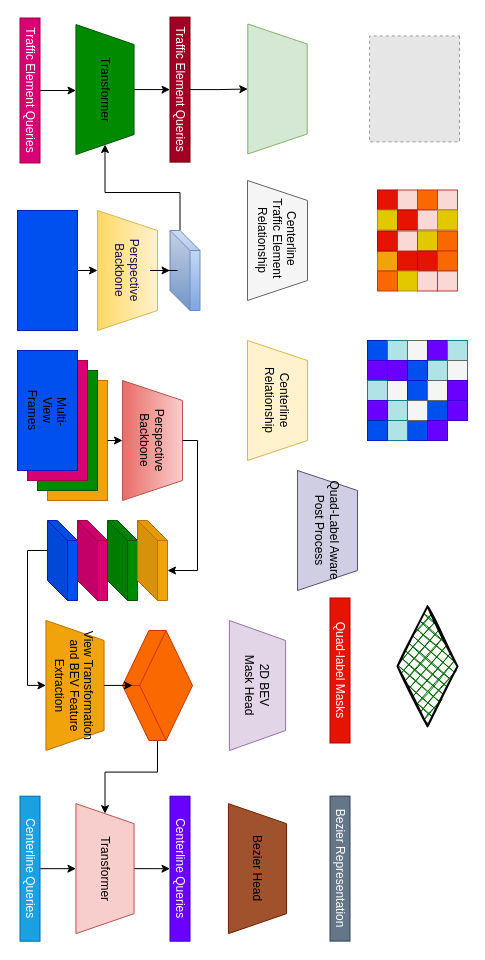
Some shapes in this 485 by 960 pixel diagram are drawn without their labels. Grey dashed boxes stand in for pictures. Here are the shapes that lost their labels. From the top down, the centre of each, then its label:
At point 277,88: "2D Traffic Element Head".
At point 47,270: "Front View Frame".
At point 157,685: "BEV Features".
At point 427,666: "Centerline Outputs".
